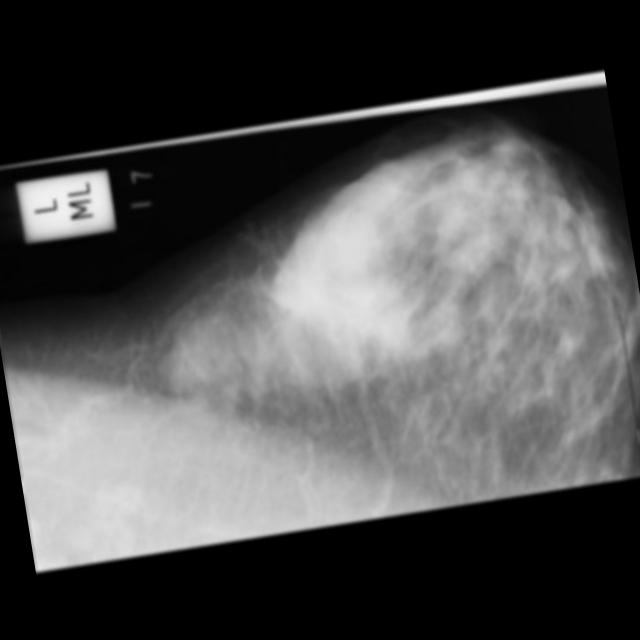ARCH: (218, 207, 386, 374)
